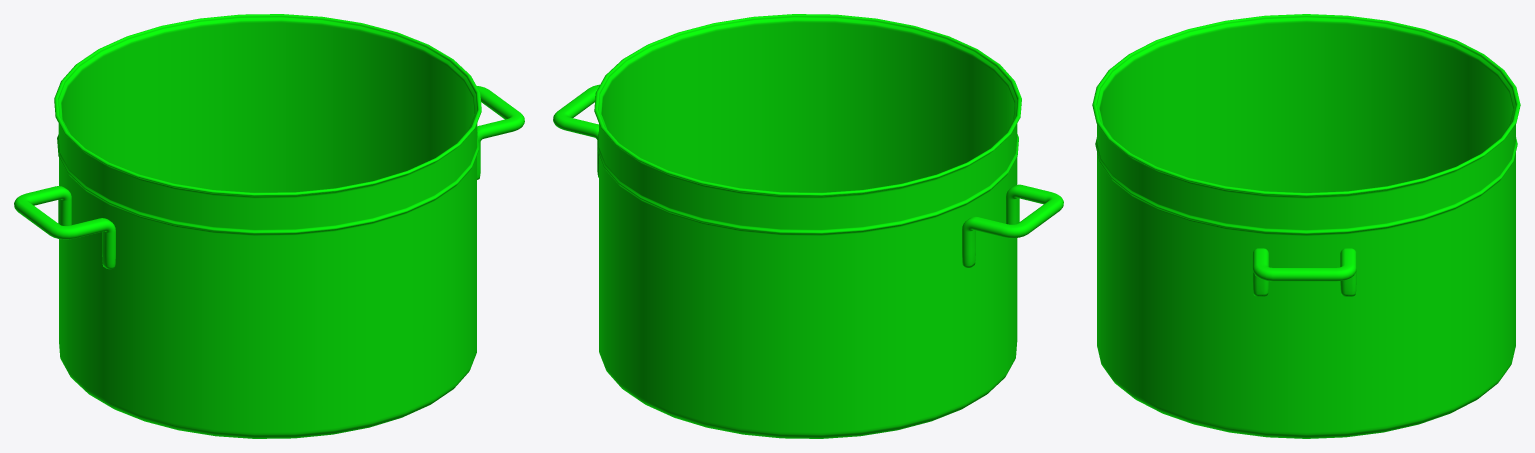
Rendered from Metal pan.fbx.
3 views of the same model, side by side, from view 1: azimuth 30°, elevation 25°; view 2: azimuth 150°, elevation 25°; view 3: azimuth 270°, elevation 25° (orthographic).
Parts seen in each view (by area): view 1: Metal pan; view 2: Metal pan; view 3: Metal pan.
Part boxes in pixels (x1,y1,x2,y2): Metal pan: (14, 14, 524, 438); Metal pan: (553, 14, 1063, 438); Metal pan: (1092, 14, 1520, 438).
Bounding box in the file's own units: 265 × 134 × 208.
